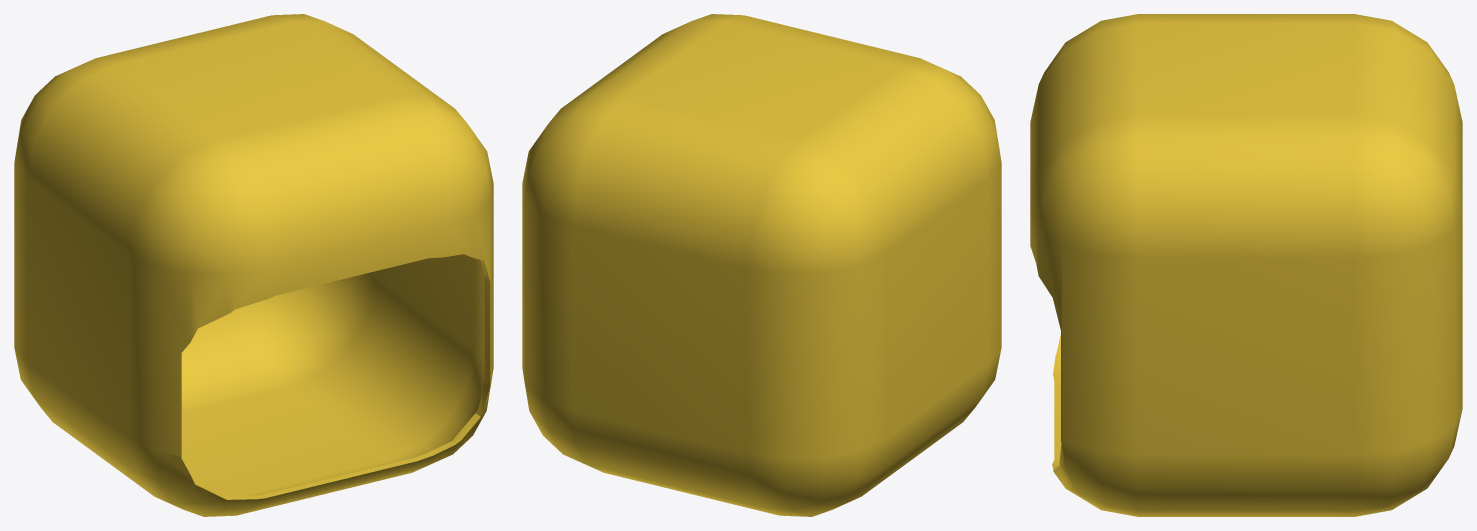
Rendered from hat.fbx.
The picture shows the model from 3 angles, left to right: view 1: azimuth 30°, elevation 25°; view 2: azimuth 150°, elevation 25°; view 3: azimuth 270°, elevation 25°; orthographic projection. The views are drawn at different scales.
Visible parts, largest first — view 1: pCube38; view 2: pCube38; view 3: pCube38.
Part boxes in pixels (x1,y1,x2,y2): pCube38: [14, 14, 493, 516]; pCube38: [522, 14, 1001, 516]; pCube38: [1030, 14, 1462, 516].
Bounding box in the file's own units: 5.81 × 5.81 × 5.81.
